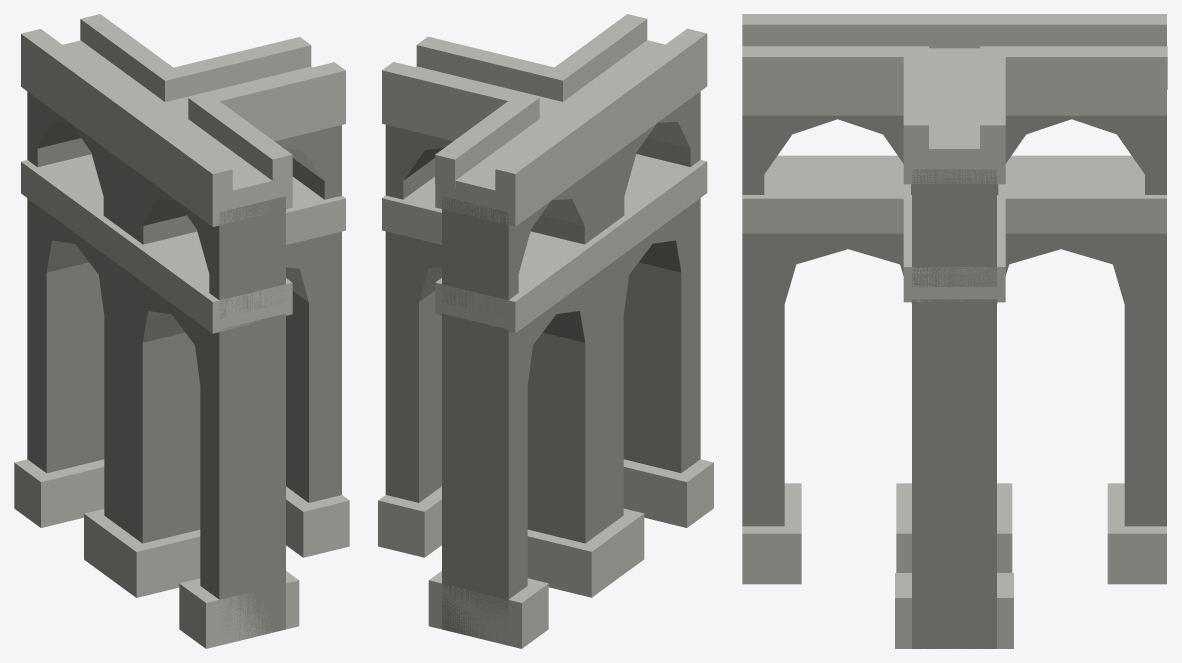
File: aquaduct_tbone.fbx
3 views of the same model, side by side, from view 1: azimuth 30°, elevation 25°; view 2: azimuth 150°, elevation 25°; view 3: azimuth 270°, elevation 25° (orthographic). The views are drawn at different scales.
Parts seen in each view (by area): view 1: polySurface268; view 2: polySurface268; view 3: polySurface268.
Boxes of the visible parts, x1,y1,x2,y2 form: polySurface268: [14, 14, 349, 648]; polySurface268: [378, 14, 713, 648]; polySurface268: [742, 14, 1167, 648].
Bounding box in the file's own units: 64 × 136 × 100.
1 material, 1 textured.
